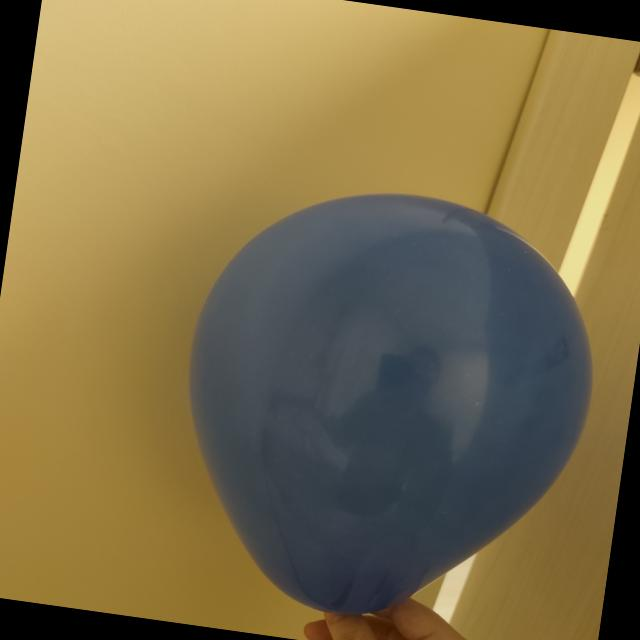balloon: (191, 195, 593, 615)
